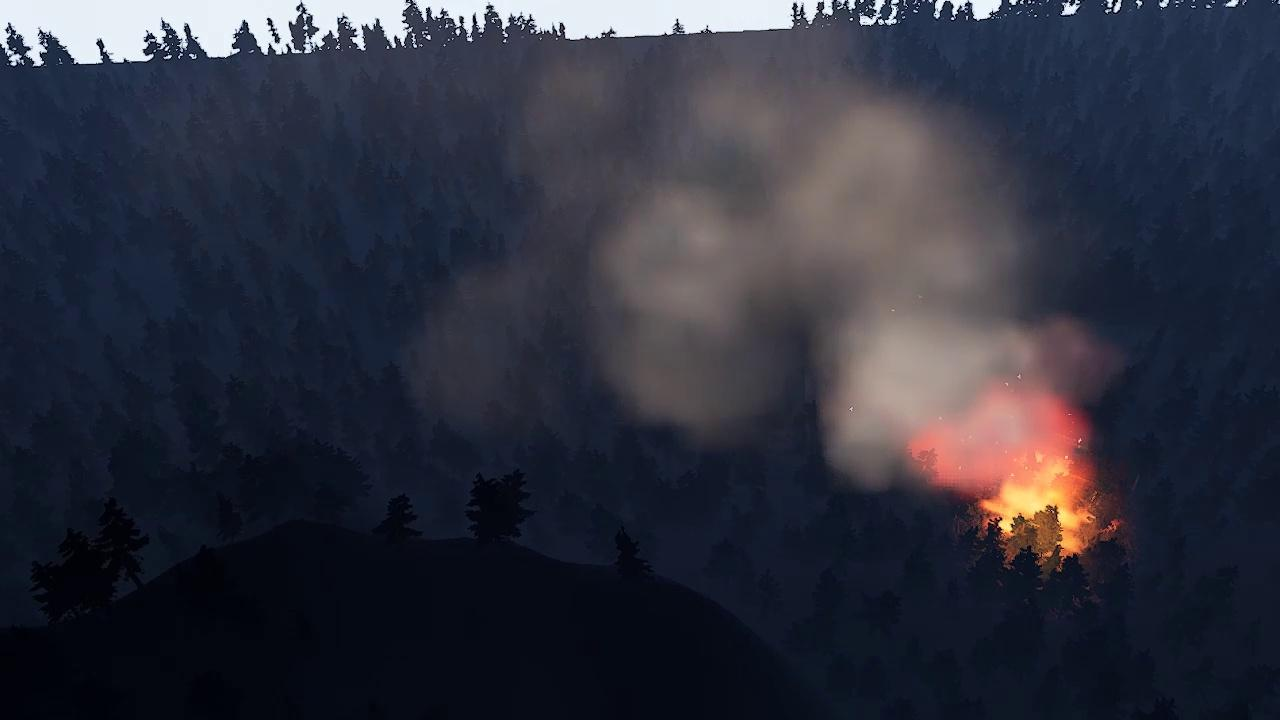fire: (903, 384, 1103, 564)
smoke: (396, 33, 1108, 482)
